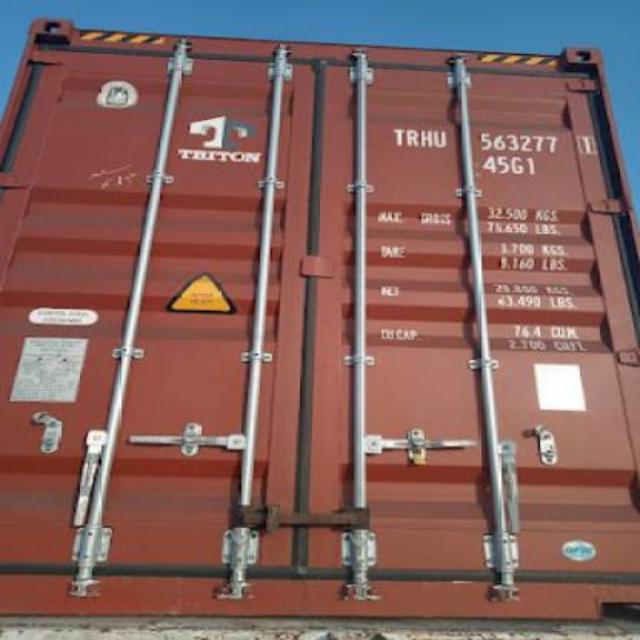1: (576, 131, 594, 155)
2: (518, 129, 532, 153)
3: (504, 128, 520, 154)
5: (476, 125, 492, 151)
6: (494, 126, 506, 154)
7: (542, 128, 556, 154), (530, 130, 544, 154)
H: (421, 125, 434, 151)
R: (404, 125, 420, 149)
T: (391, 120, 404, 150)
U: (434, 126, 448, 150)
